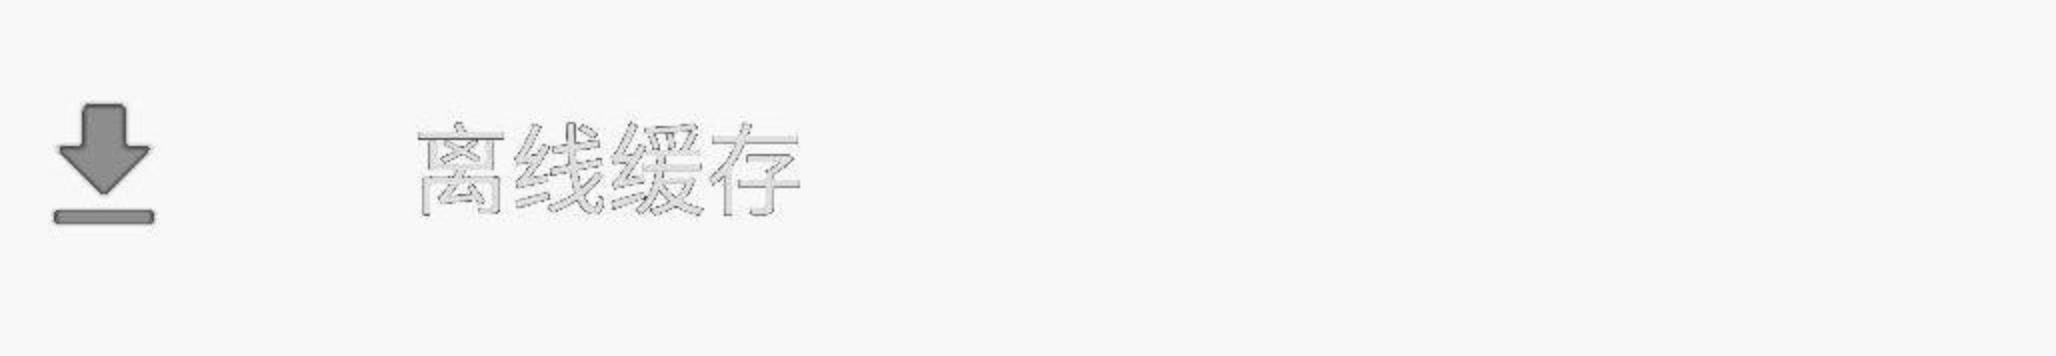CheckedTextView: (1, 1, 2055, 355)
